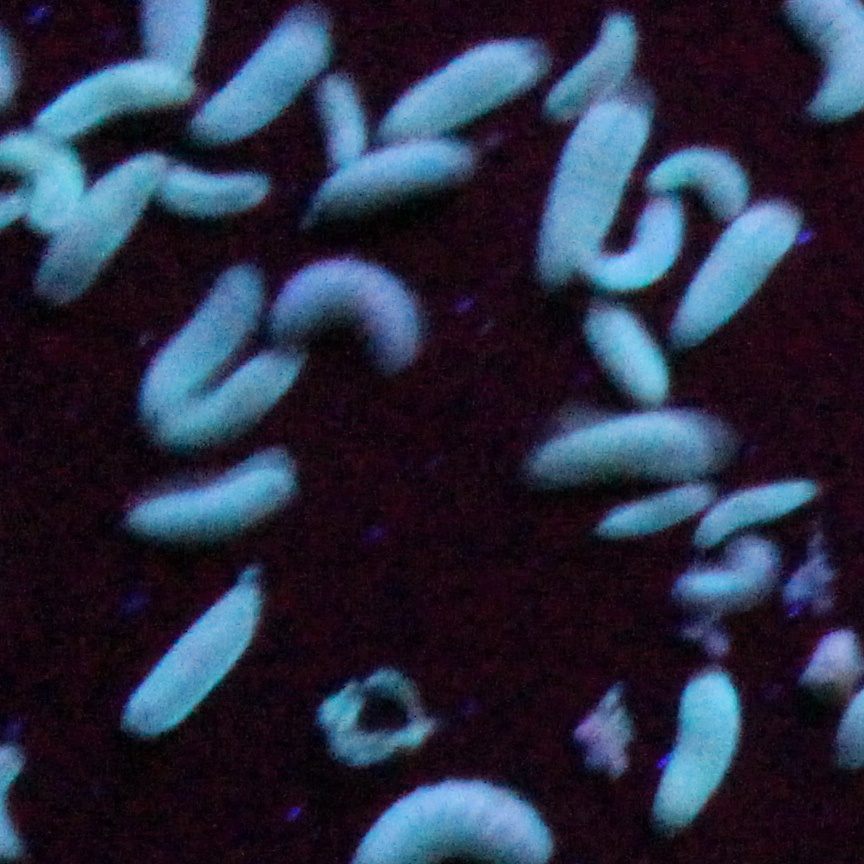larve: (122, 564, 271, 757), (294, 636, 445, 778), (682, 212, 819, 352), (654, 657, 740, 864), (280, 245, 426, 366), (387, 24, 547, 131), (205, 5, 322, 124), (524, 415, 731, 482), (113, 466, 299, 540), (550, 115, 624, 275), (568, 298, 666, 405), (49, 64, 198, 126), (159, 261, 242, 368), (163, 373, 294, 438), (557, 10, 638, 103), (650, 143, 754, 212), (73, 171, 152, 254), (705, 482, 824, 535), (159, 161, 270, 217), (312, 163, 456, 206), (5, 138, 70, 220), (599, 480, 703, 531), (327, 66, 363, 161)
